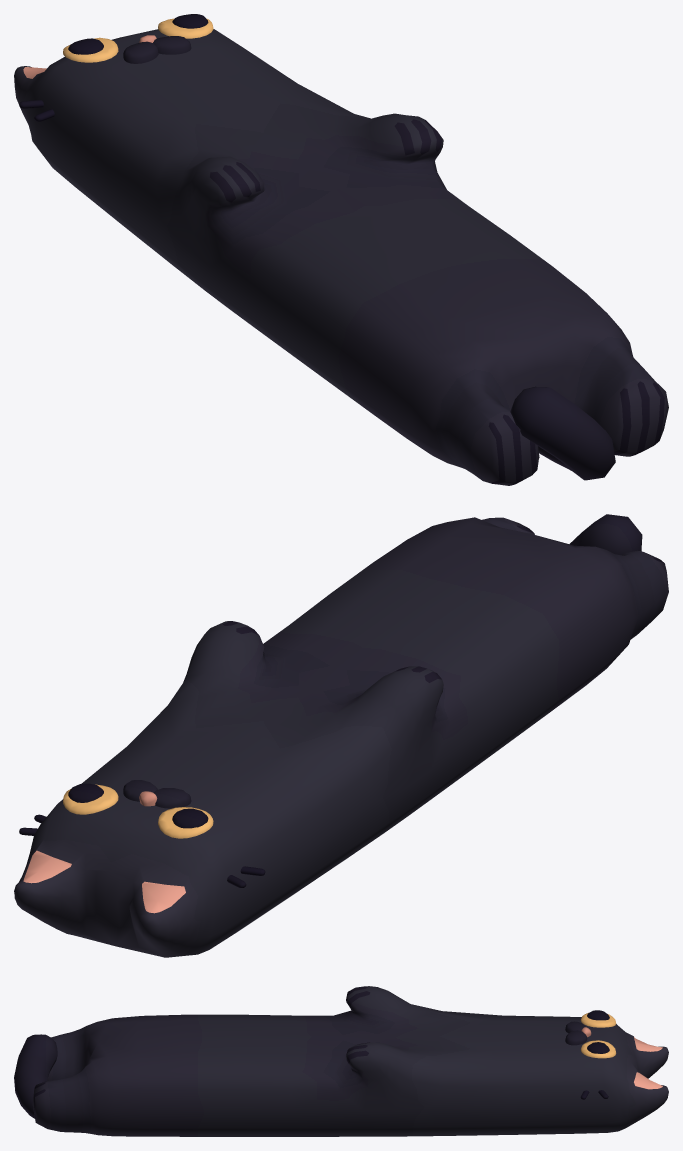
The model's file is Test Cat.fbx.
3 views of the same model, one above another, from view 1: azimuth 30°, elevation 25°; view 2: azimuth 150°, elevation 25°; view 3: azimuth 270°, elevation 25° (orthographic). The views are drawn at different scales.
Parts seen in each view (by area): view 1: Tile_1x4.017, BézierCurve.003, Tile_1x4.022, Tile_1x4.020, Tile_1x4.018; view 2: Tile_1x4.017, BézierCurve.003, Tile_1x4.022, Tile_1x4.018, Tile_1x4.020; view 3: Tile_1x4.017, BézierCurve.003, Tile_1x4.022, Tile_1x4.020, Tile_1x4.018.
Boxes of the visible parts, x1,y1,x2,y2 form: Tile_1x4.017: (14, 29, 668, 485); BézierCurve.003: (510, 386, 615, 480); Tile_1x4.022: (63, 18, 213, 62); Tile_1x4.020: (123, 36, 191, 63); Tile_1x4.018: (68, 14, 208, 54); Tile_1x4.017: (14, 517, 668, 957); BézierCurve.003: (569, 514, 642, 555); Tile_1x4.022: (63, 784, 213, 838); Tile_1x4.018: (68, 783, 208, 828); Tile_1x4.020: (123, 780, 191, 808); Tile_1x4.017: (32, 986, 668, 1136); BézierCurve.003: (14, 1034, 57, 1118); Tile_1x4.022: (580, 1012, 616, 1058); Tile_1x4.020: (565, 1021, 587, 1045); Tile_1x4.018: (587, 1010, 609, 1053).
Size of the model in its own units: 104 by 68.56 by 402.
